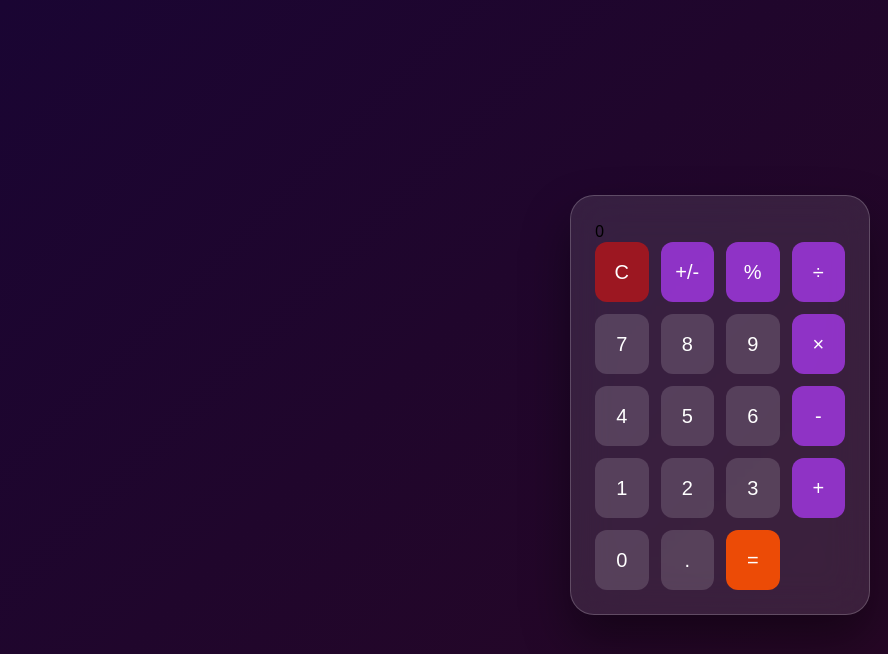
it: Calculator › suma dos números correctamente
The width and height of the screenshot is (888, 654).
Click the button "3" at (753, 488), box [726,458,780,518]
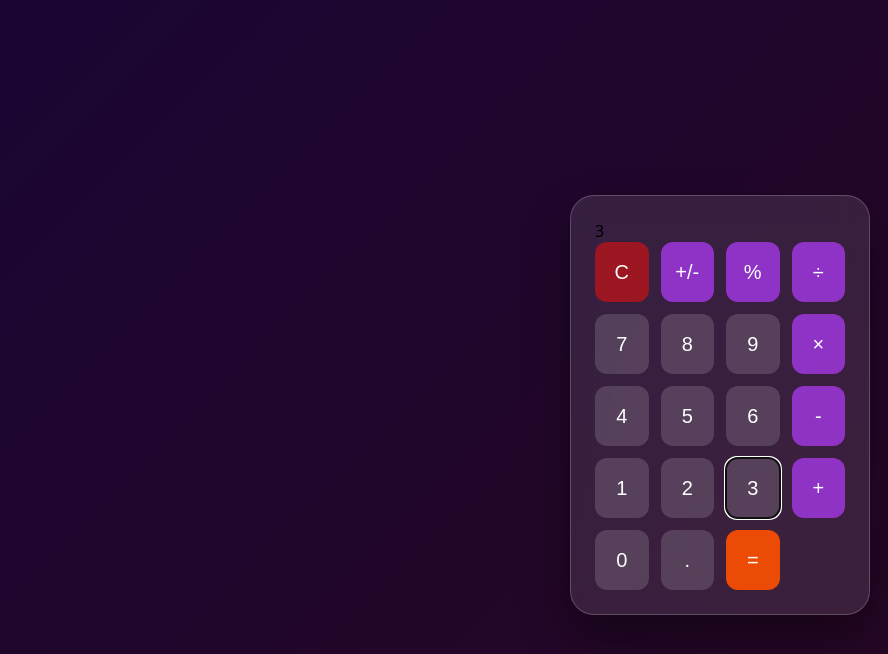
Click the button "+" at (818, 488), box [792,458,845,518]
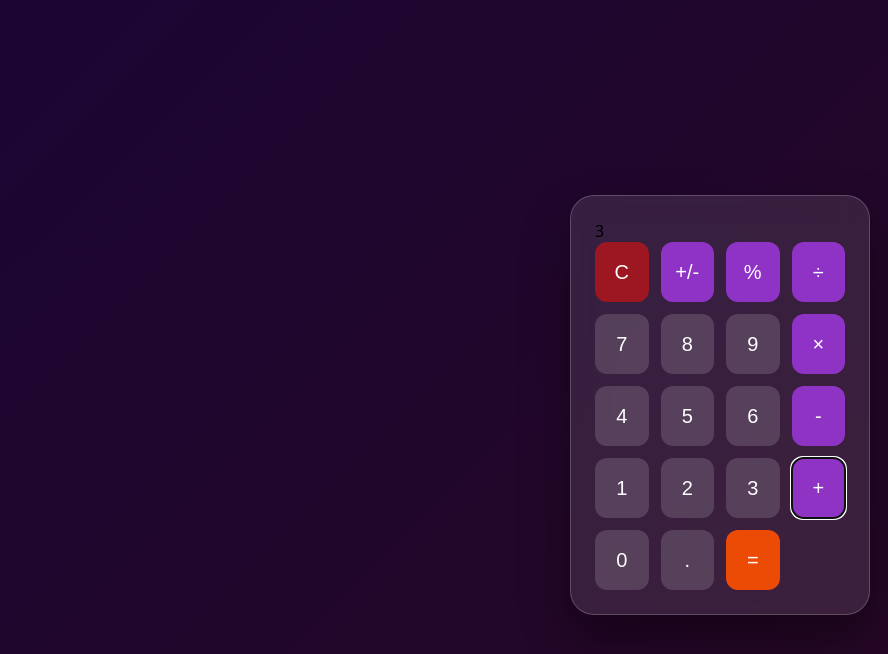
Click the button "4" at (622, 416), box [595,386,648,446]
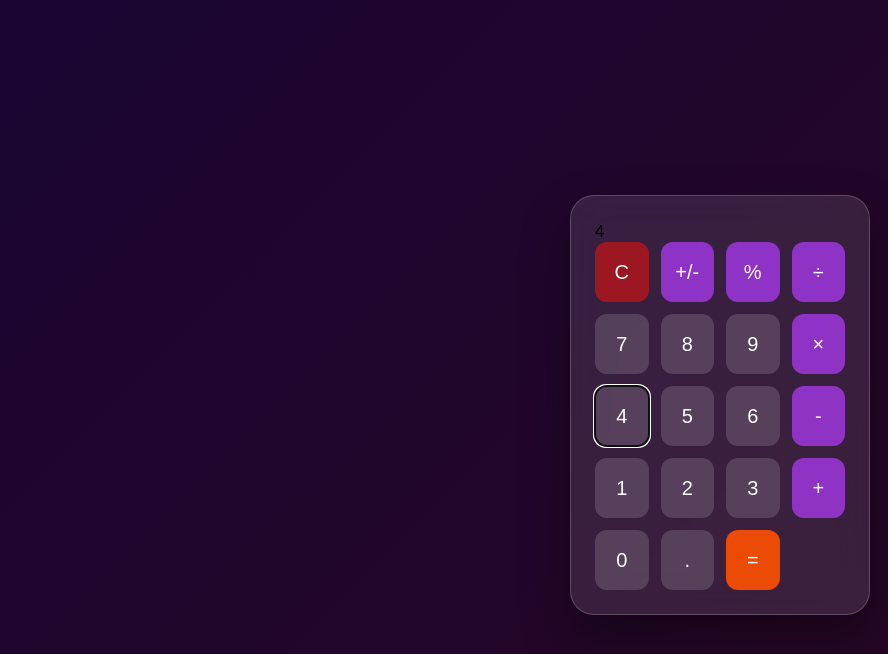
Click the button "=" at (753, 560), box [726,530,780,590]
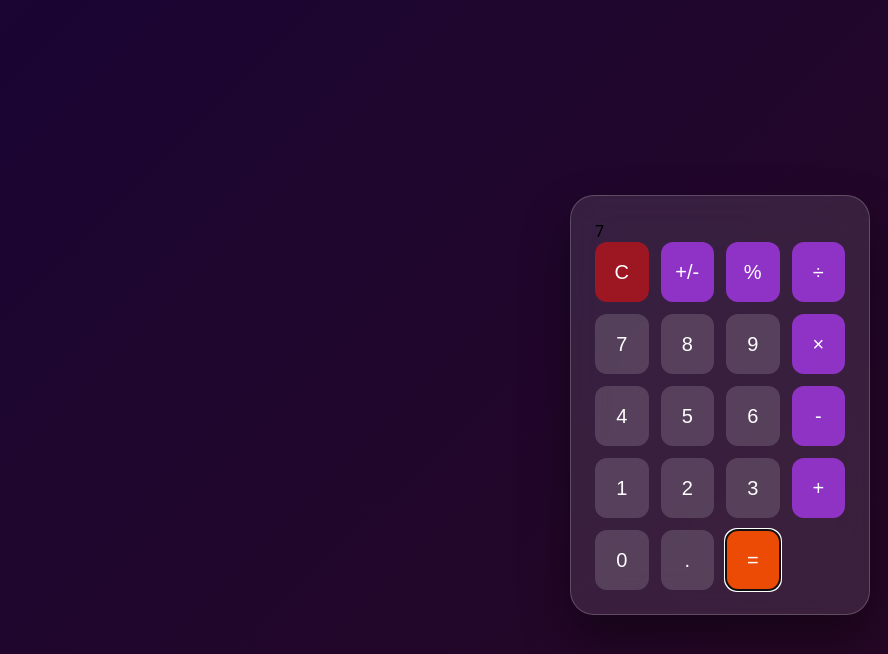
Check: the message reads "7", box [595,220,604,242]
